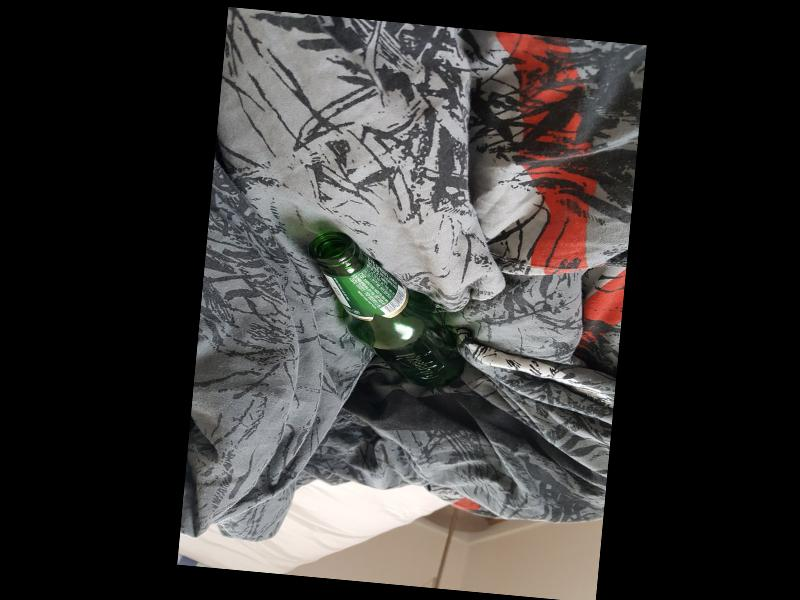Beer: (299, 229, 476, 389)
